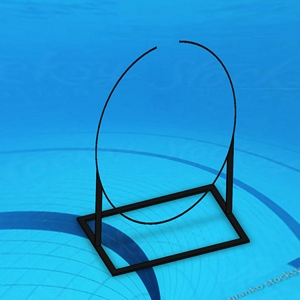circle: (74, 40, 254, 278)
